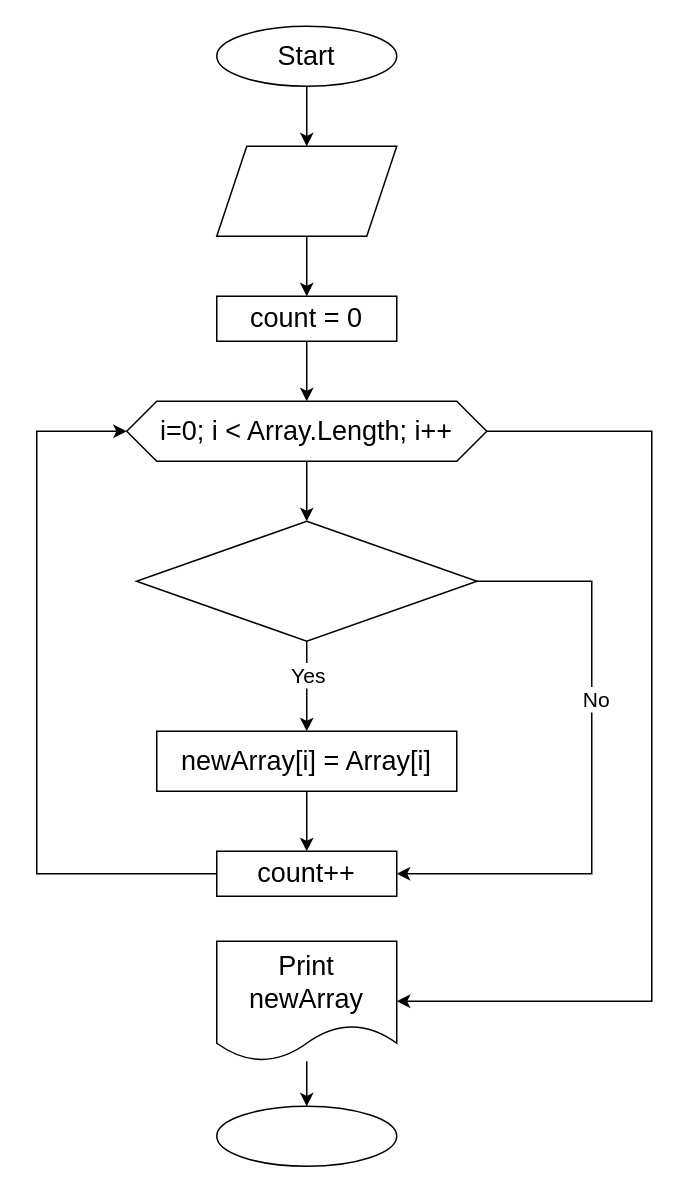
Some shapes in this 690 by 1193 pixel diagram are drawn without their labels. Here are the shapes that lost their labels. From the top down, the box of each, then its label:
(215, 145, 397, 236): Array [ ] newArray [ ]
(135, 520, 477, 641): Array[i].Length <=3
(215, 1105, 397, 1166): Finish
